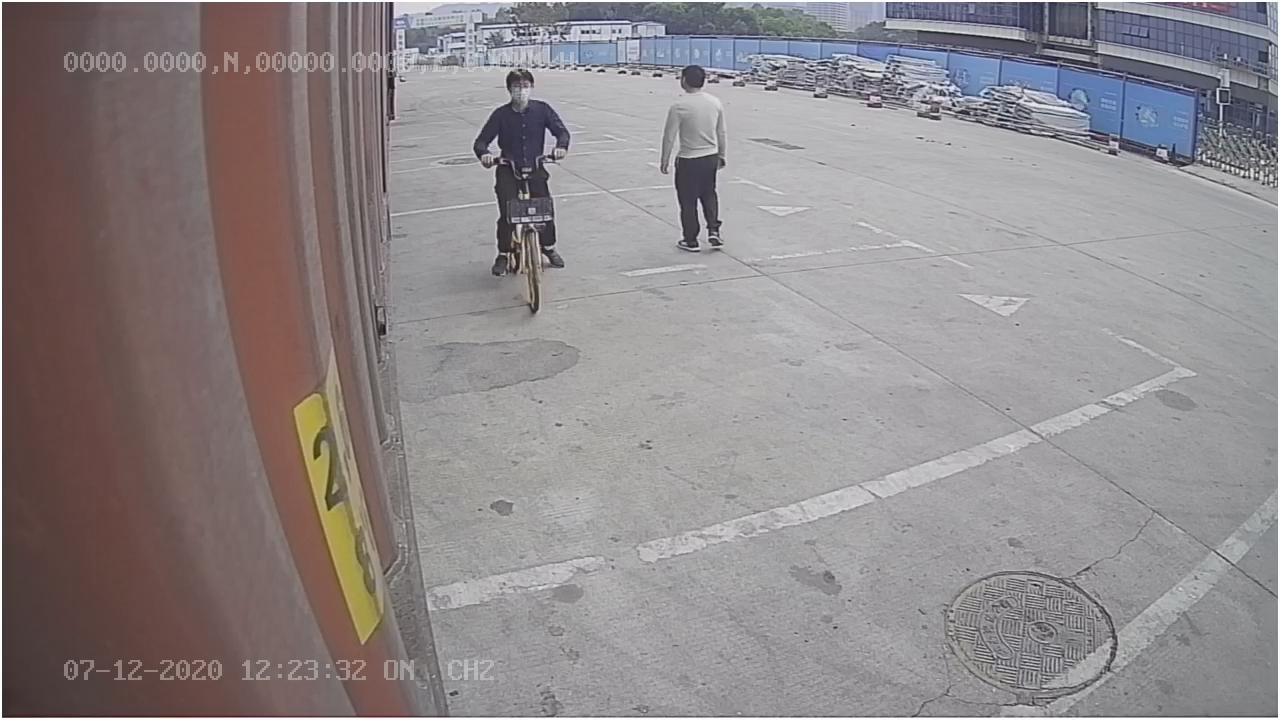person: (653, 58, 735, 256)
